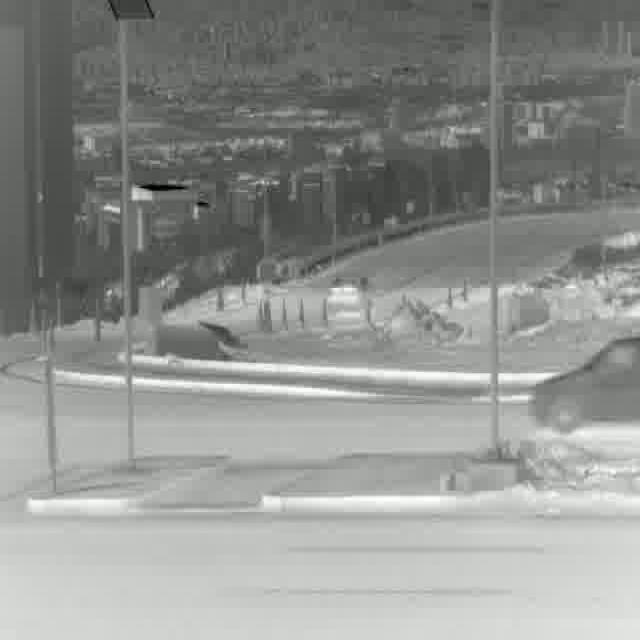Car: (528, 337, 640, 435), (328, 274, 371, 317)
